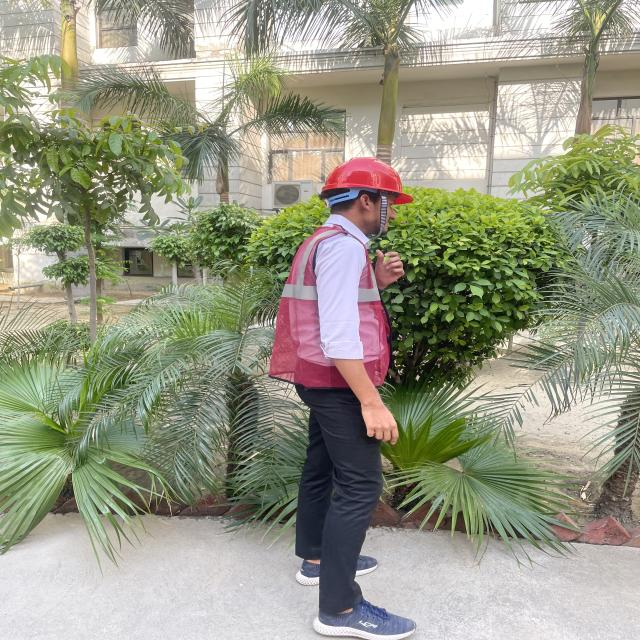safe: (272, 158, 414, 640)
